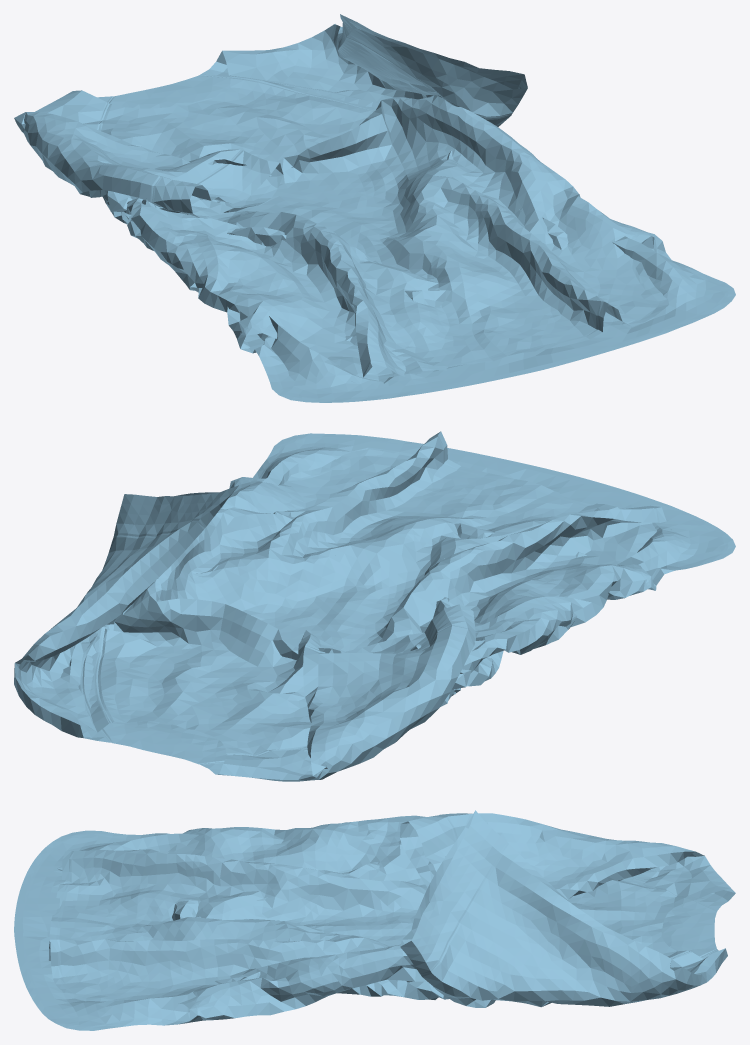
The model's file is frame_15.glb.
3 renders of one model, top to bottom at view 1: azimuth 30°, elevation 25°; view 2: azimuth 150°, elevation 25°; view 3: azimuth 270°, elevation 25°, orthographic. The views are drawn at different scales.
Parts seen in each view (by area): view 1: frame_15.obj; view 2: frame_15.obj; view 3: frame_15.obj.
Part boxes in pixels (x1=…): frame_15.obj: x1=14, y1=14, x2=735, y2=402; frame_15.obj: x1=14, y1=431, x2=735, y2=781; frame_15.obj: x1=14, y1=810, x2=735, y2=1030.
Bounding box in the file's own units: 1.19 × 0.4189 × 1.81.
